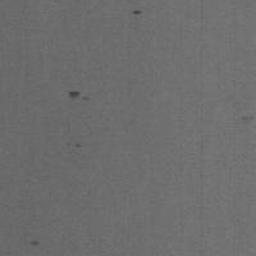Inclusion: (69, 91, 89, 100), (242, 116, 253, 121), (133, 10, 142, 15), (30, 241, 39, 246)
